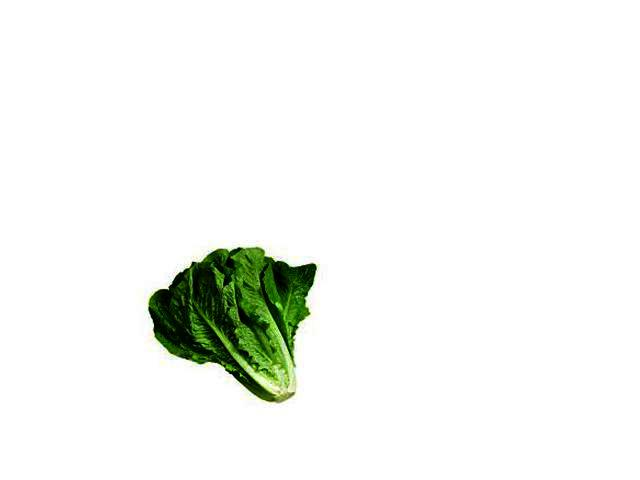lettuce: (163, 249, 310, 395)
